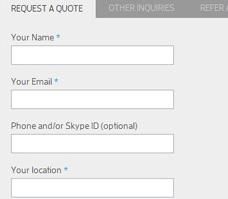field: (10, 44, 175, 66), (9, 177, 176, 198), (10, 133, 175, 154), (9, 89, 175, 109)
field_with_label: (8, 121, 178, 156), (8, 34, 180, 68), (7, 77, 176, 111), (7, 167, 179, 199)
